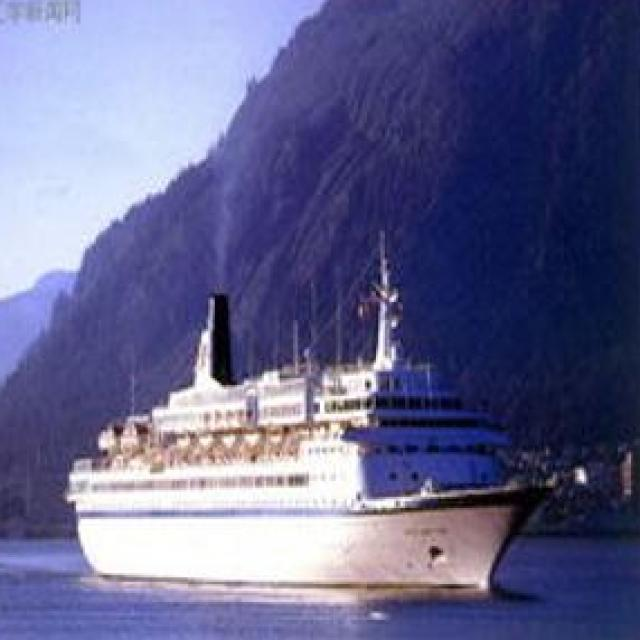passenger ship: (60, 266, 532, 596)
